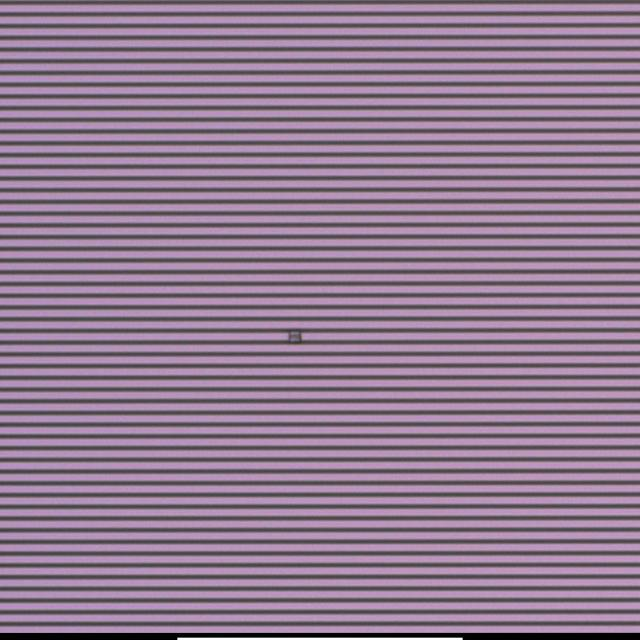03_intrusion: (280, 326, 305, 354)
